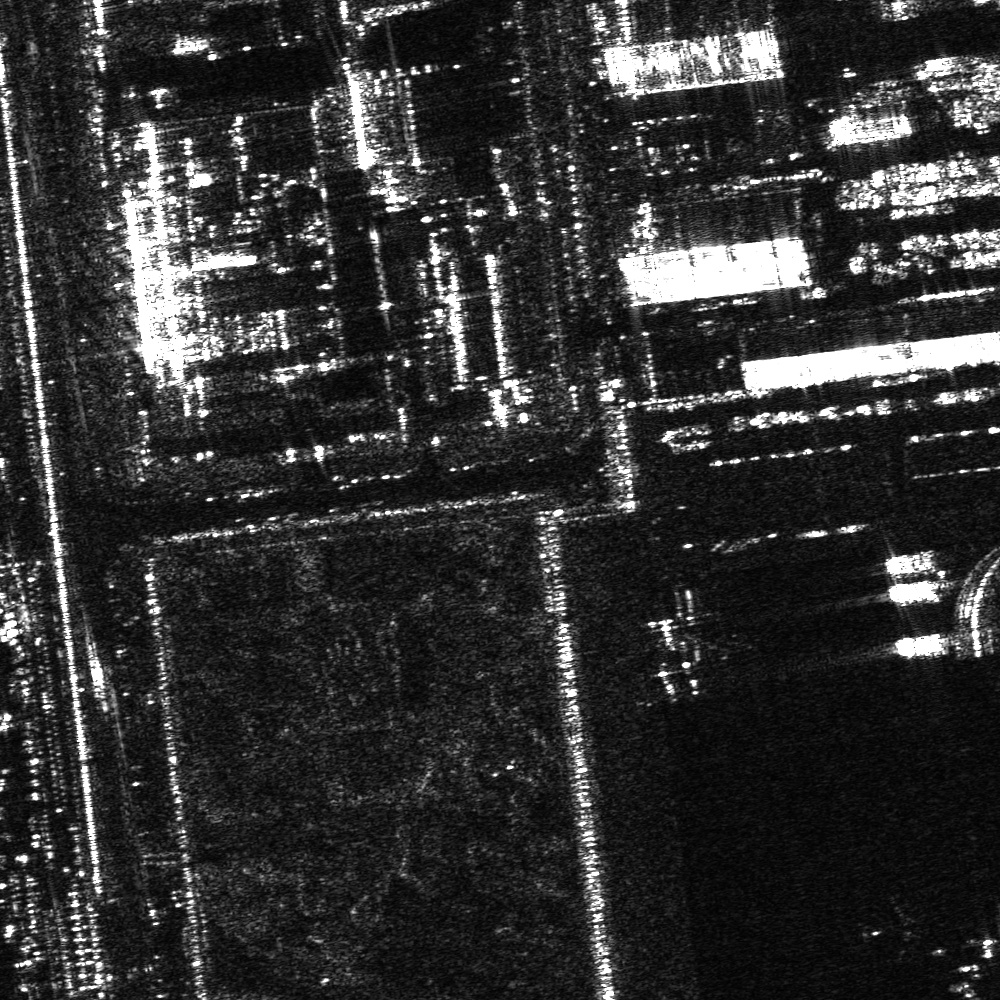Boeing787: (853, 889, 930, 962)
other: (628, 609, 720, 705)
